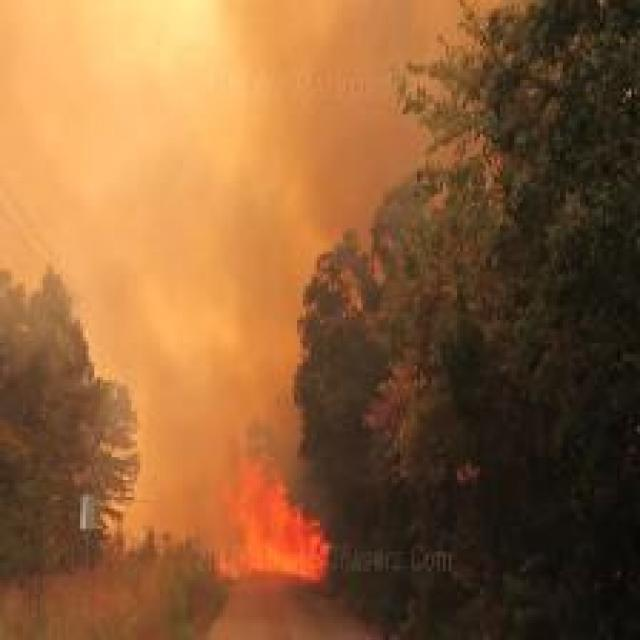Fire: (216, 428, 333, 583)
